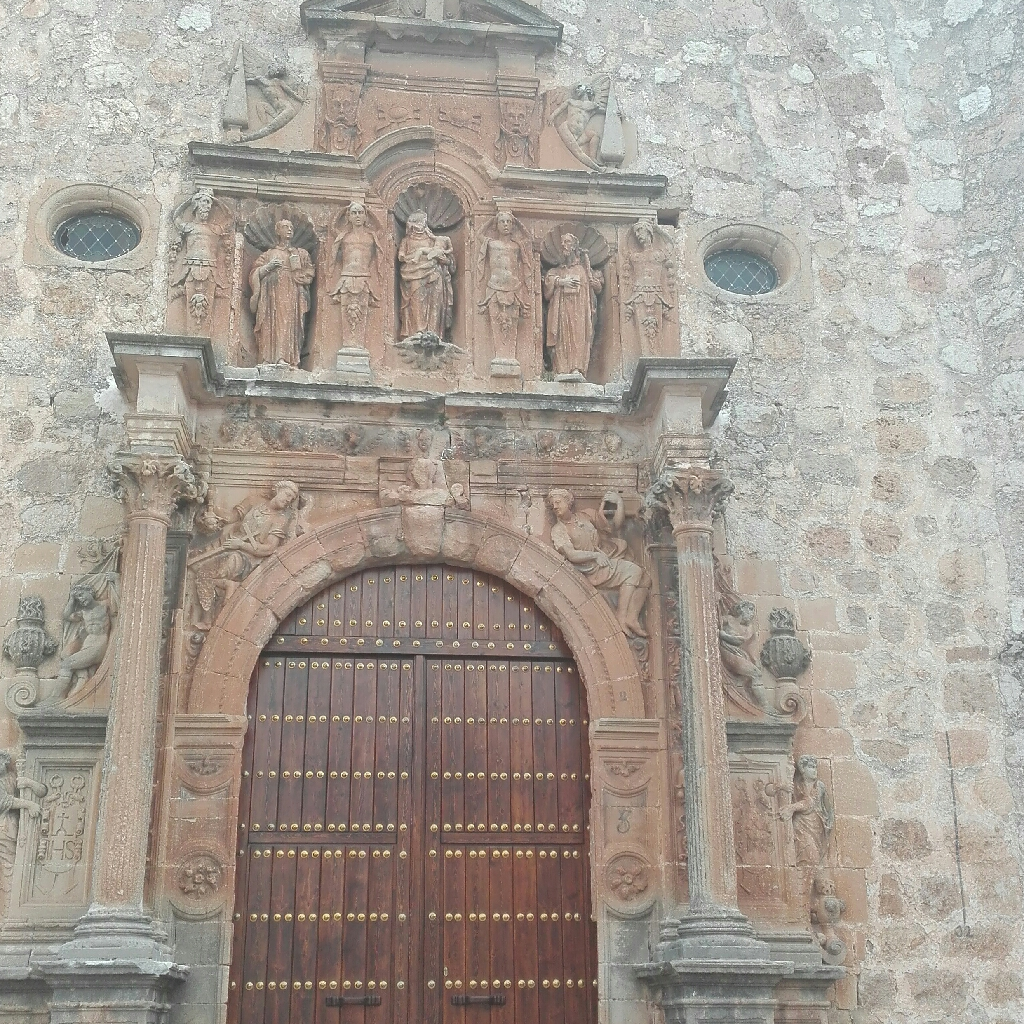arco-medio-punto: (227, 541, 619, 765)
ojo-de-buey: (36, 180, 155, 273), (697, 223, 801, 295)
